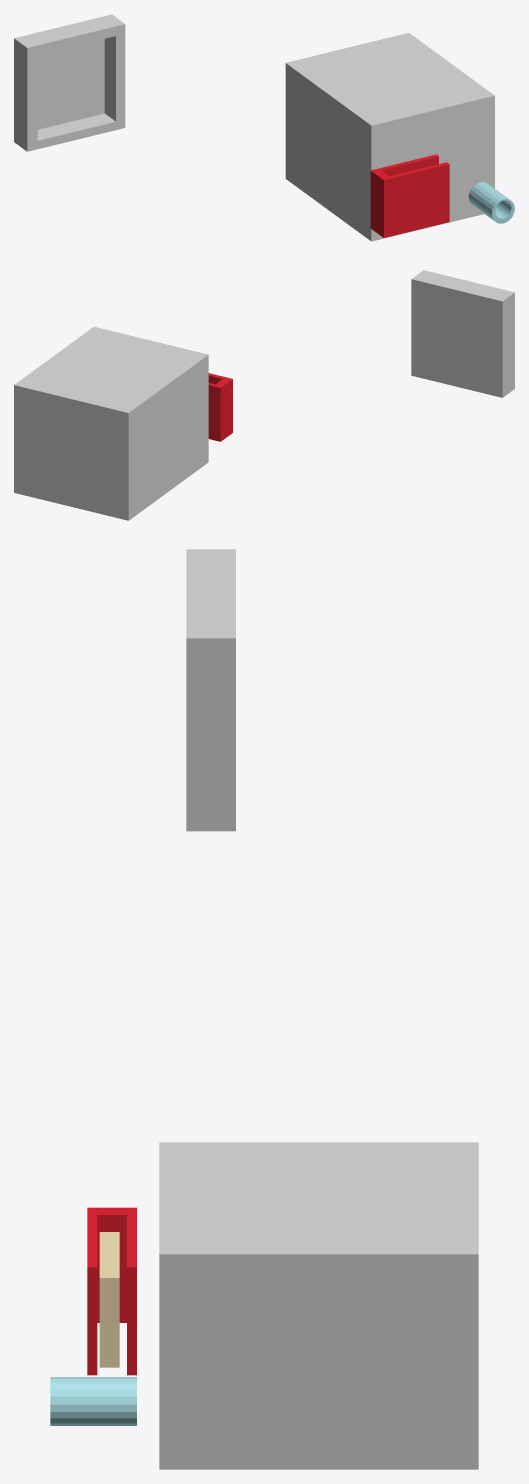
The model's file is tinker.obj.
3 renders of one model, top to bottom at view 1: azimuth 30°, elevation 25°; view 2: azimuth 150°, elevation 25°; view 3: azimuth 270°, elevation 25°, orthographic. The views are drawn at different scales.
Visible parts, largest first — view 1: group_0_16448250, group_0_15277357, group_0_11593967; view 2: group_0_16448250, group_0_15277357; view 3: group_0_16448250, group_0_15277357, group_0_11593967, group_0_16311991.
Part boxes in pixels (left/top/right/bottom): group_0_16448250: left=14, top=14, right=494, bottom=241; group_0_15277357: left=370, top=154, right=449, bottom=237; group_0_11593967: left=468, top=182, right=514, bottom=223; group_0_16448250: left=14, top=270, right=514, bottom=520; group_0_15277357: left=208, top=373, right=232, bottom=441; group_0_16448250: left=159, top=549, right=478, bottom=1469; group_0_15277357: left=87, top=1207, right=136, bottom=1375; group_0_11593967: left=50, top=1377, right=136, bottom=1425; group_0_16311991: left=99, top=1232, right=119, bottom=1367.
Size of the model in its own units: 399 by 233 by 173.
